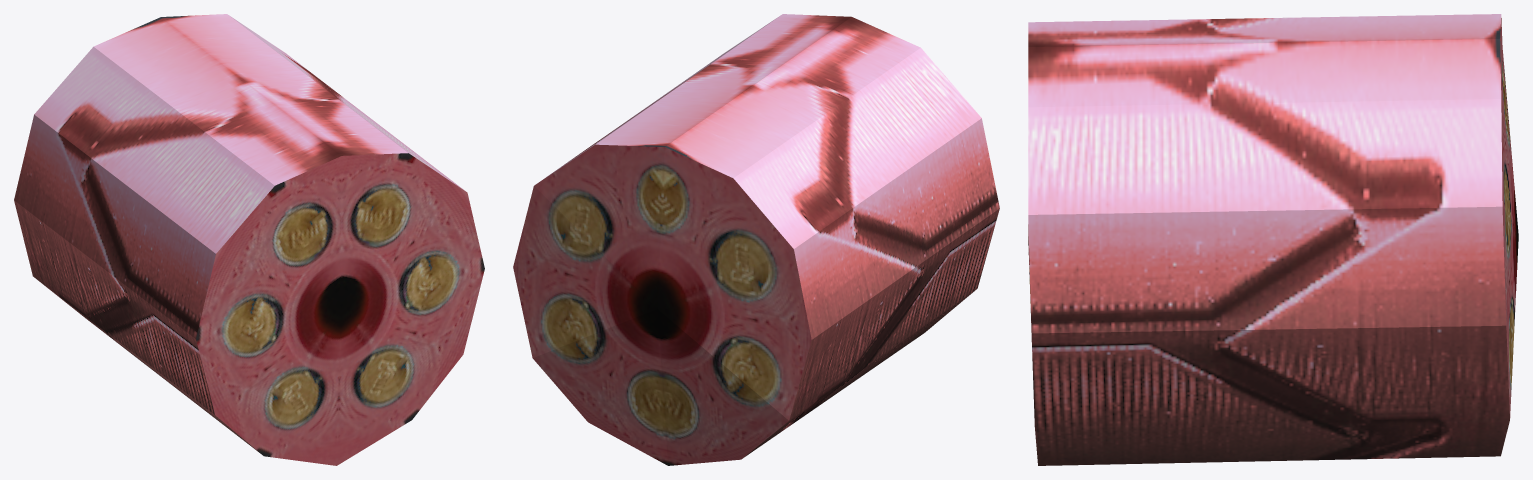
Rendered from pippyCyl.glb.
3 renders of one model, left to right at view 1: azimuth 30°, elevation 25°; view 2: azimuth 150°, elevation 25°; view 3: azimuth 270°, elevation 25°, orthographic. The views are drawn at different scales.
Parts seen in each view (by area): view 1: Cube.001; view 2: Cube.001; view 3: Cube.001.
Boxes of the visible parts, x1,y1,x2,y2 form: Cube.001: (14, 14, 484, 465); Cube.001: (513, 14, 999, 465); Cube.001: (1028, 14, 1518, 465).
Bounding box in the file's own units: 0.1045 × 0.1106 × 0.1178.
1 material, 1 textured.
